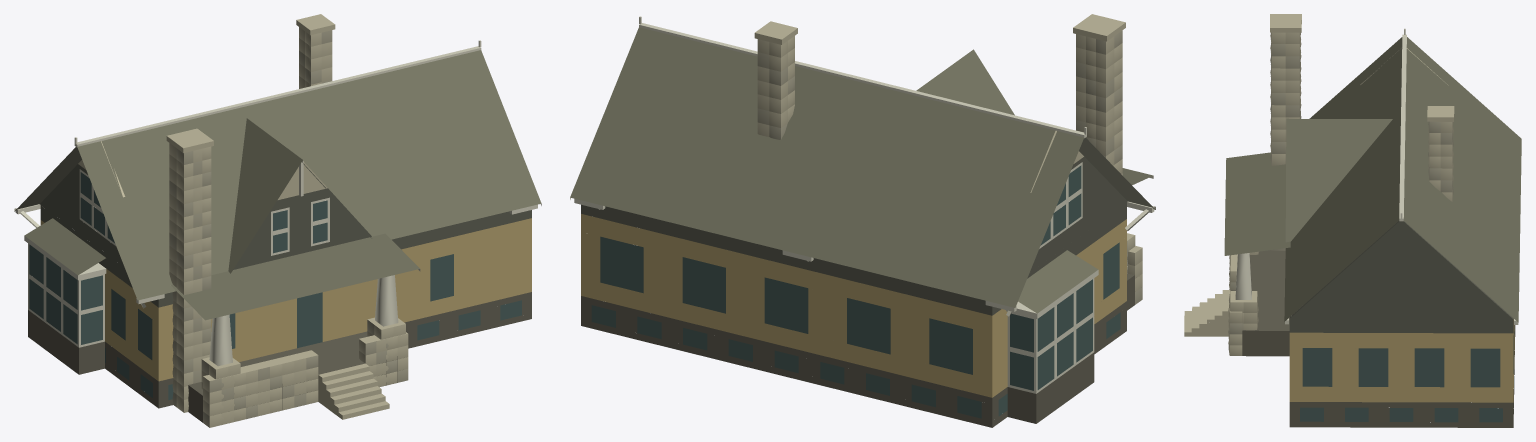
File: trethewey-house-near.glb
3 renders of one model, left to right at view 1: azimuth 30°, elevation 25°; view 2: azimuth 150°, elevation 25°; view 3: azimuth 270°, elevation 25°, orthographic. The views are drawn at different scales.
Visible parts, largest first — view 1: trethewey-house-0-roof, trethewey-house-0-stone, trethewey-house-0-paint, trethewey-house-0-glass, trethewey-house-0-wood, trethewey-house-0-base, trethewey-house-0-trim, trethewey-house-0-stone2; view 2: trethewey-house-0-roof, trethewey-house-0-paint, trethewey-house-0-glass, trethewey-house-0-base, trethewey-house-0-wood, trethewey-house-0-stone, trethewey-house-0-trim, trethewey-house-0-stone2; view 3: trethewey-house-0-roof, trethewey-house-0-wood, trethewey-house-0-paint, trethewey-house-0-stone, trethewey-house-0-base, trethewey-house-0-glass, trethewey-house-0-stone2, trethewey-house-0-trim.
Boxes of the visible parts, box(x1,y1,x2,y2) form: trethewey-house-0-roof: box(24, 50, 541, 320); trethewey-house-0-stone: box(78, 14, 408, 427); trethewey-house-0-paint: box(40, 218, 531, 381); trethewey-house-0-glass: box(29, 172, 521, 400); trethewey-house-0-wood: box(14, 147, 531, 307); trethewey-house-0-base: box(28, 292, 531, 422); trethewey-house-0-trim: box(14, 40, 541, 366); trethewey-house-0-stone2: box(169, 30, 408, 427); trethewey-house-0-roof: box(570, 27, 1152, 313); trethewey-house-0-paint: box(581, 214, 1126, 397); trethewey-house-0-glass: box(591, 165, 1120, 418); trethewey-house-0-base: box(581, 273, 1134, 427); trethewey-house-0-wood: box(581, 137, 1155, 315); trethewey-house-0-stone: box(754, 14, 1142, 291); trethewey-house-0-trim: box(570, 16, 1155, 393); trethewey-house-0-stone2: box(757, 30, 1142, 304); trethewey-house-0-roof: box(1224, 37, 1521, 322); trethewey-house-0-wood: box(1289, 221, 1513, 333); trethewey-house-0-paint: box(1289, 319, 1514, 402); trethewey-house-0-stone: box(1184, 14, 1454, 355); trethewey-house-0-base: box(1230, 250, 1515, 427); trethewey-house-0-glass: box(1300, 325, 1514, 422); trethewey-house-0-stone2: box(1228, 43, 1453, 354); trethewey-house-0-trim: box(1235, 28, 1518, 324).
Bounding box in the file's own units: 17.34 × 11 × 13.26.
